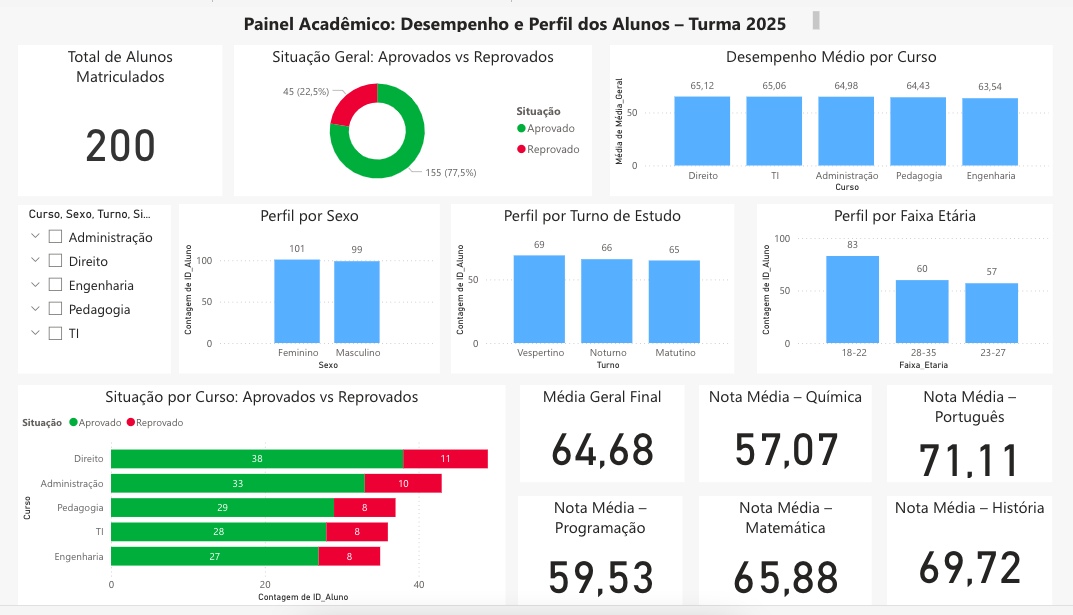

What the dashboard file says about the page in this screenshot:
{"tool":"powerbi","page":{"name":"Página 1","canvas":[1280,720],"ordinal":0},"visuals":[{"type":"card","title":"Total de Alunos Matriculados","fields":{"Values":["Count(dataset_educacional_ficticio.ID_Aluno)"]},"box":[13.1,45.9,246.3,182.1],"z":0},{"type":"donutChart","title":"Situação Geral: Aprovados vs Reprovados","fields":{"Y":["Count(dataset_educacional_ficticio.ID_Aluno)"],"Category":["dataset_educacional_ficticio.Situação"]},"box":[273.8,45.9,431,182.1],"z":1000},{"type":"columnChart","title":"Desempenho Médio por Curso","fields":{"Category":["dataset_educacional_ficticio.Curso"],"Y":["Avg(dataset_educacional_ficticio.Média_Geral)"]},"box":[725.8,45.9,533.2,182.1],"z":2000},{"type":"barChart","title":"Situação por Curso: Aprovados vs Reprovados","fields":{"Category":["dataset_educacional_ficticio.Curso"],"Y":["Count(dataset_educacional_ficticio.ID_Aluno)"],"Series":["dataset_educacional_ficticio.Situação"]},"box":[13.1,454.6,586.9,266],"z":3000},{"type":"clusteredColumnChart","title":"Perfil por Turno de Estudo","fields":{"Category":["dataset_educacional_ficticio.Turno"],"Y":["Count(dataset_educacional_ficticio.ID_Aluno)"]},"box":[534.5,237.1,340.6,204.4],"z":4000},{"type":"columnChart","title":"Perfil por Sexo","fields":{"Category":["dataset_educacional_ficticio.Sexo"],"Y":["Count(dataset_educacional_ficticio.ID_Aluno)"]},"box":[207,237.1,314.4,204.4],"z":5000},{"type":"columnChart","title":"Perfil por Faixa Etária","fields":{"Y":["Count(dataset_educacional_ficticio.ID_Aluno)"],"Category":["dataset_educacional_ficticio.Faixa_Etaria"]},"box":[902.7,237.1,356.4,204.4],"z":6000},{"type":"card","title":"Nota Média – História","fields":{"Values":["Avg(dataset_educacional_ficticio.Nota_História)"]},"box":[1059.9,588.2,199.1,132.3],"z":7000},{"type":"card","title":"Nota Média – Matemática","fields":{"Values":["Avg(dataset_educacional_ficticio.Nota_Matemática)"]},"box":[833.2,588.2,208.3,132.3],"z":8000},{"type":"card","title":"Nota Média – Português","fields":{"Values":["Avg(dataset_educacional_ficticio.Nota_Português)"]},"box":[1059.9,454.6,199.1,116.6],"z":9000},{"type":"card","title":"Nota Média – Programação","fields":{"Values":["Avg(dataset_educacional_ficticio.Nota_Programação)"]},"box":[615.8,588.2,197.8,132.3],"z":10000},{"type":"card","title":"Nota Média – Química","fields":{"Values":["Avg(dataset_educacional_ficticio.Nota_Química)"]},"box":[833.2,454.6,208.3,116.6],"z":11000},{"type":"slicer","fields":{"Values":["dataset_educacional_ficticio.Curso","dataset_educacional_ficticio.Sexo","dataset_educacional_ficticio.Turno","dataset_educacional_ficticio.Situação"]},"box":[13.7,237.9,184.4,203],"z":12000},{"type":"card","title":"Média Geral Final","fields":{"Values":["Avg(dataset_educacional_ficticio.Média_Geral)"]},"box":[617.1,454.6,197.8,116.6],"z":13000},{"type":"textbox","box":[248.9,0,733.7,35.4],"z":14000}]}

Visuals, with their boxes in screenshot pixels (x1, y1, x2, y2), scaled from the page's 1280x720 canvas onto the 1073x615 screenshot:
"Total de Alunos Matriculados" card: (11, 39, 217, 195)
"Situação Geral: Aprovados vs Reprovados" donutChart: (230, 39, 591, 195)
"Desempenho Médio por Curso" columnChart: (608, 39, 1055, 195)
"Situação por Curso: Aprovados vs Reprovados" barChart: (11, 388, 503, 614)
"Perfil por Turno de Estudo" clusteredColumnChart: (448, 203, 734, 377)
"Perfil por Sexo" columnChart: (174, 203, 437, 377)
"Perfil por Faixa Etária" columnChart: (757, 203, 1055, 377)
"Nota Média – História" card: (888, 502, 1055, 614)
"Nota Média – Matemática" card: (698, 502, 873, 614)
"Nota Média – Português" card: (888, 388, 1055, 488)
"Nota Média – Programação" card: (516, 502, 682, 614)
"Nota Média – Química" card: (698, 388, 873, 488)
slicer - dataset_educacional_ficticio.Curso x dataset_educacional_ficticio.Sexo: (11, 203, 166, 377)
"Média Geral Final" card: (517, 388, 683, 488)
textbox: (209, 0, 824, 30)
